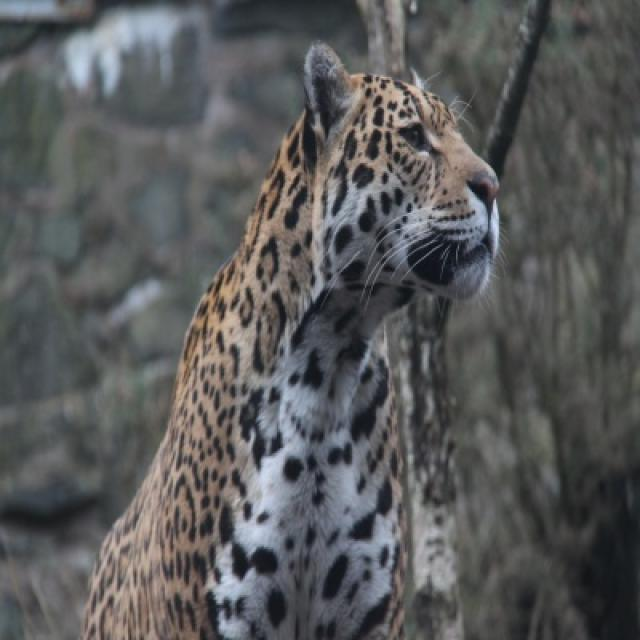Jaguar: (78, 43, 501, 638)
